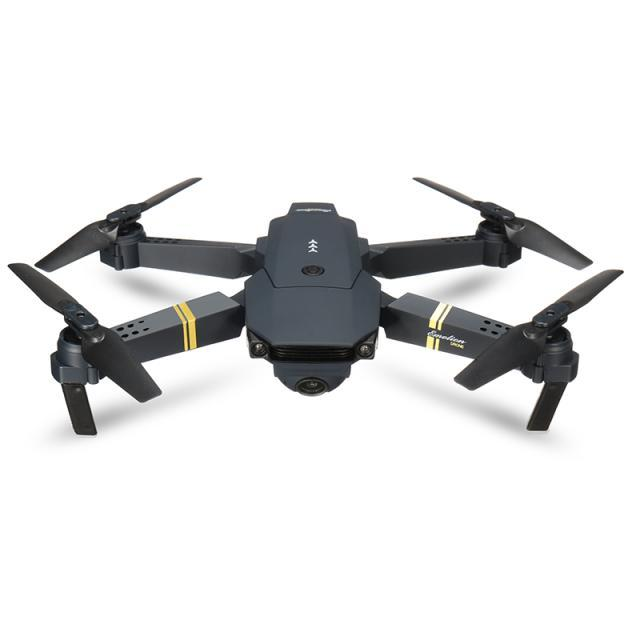drone: (18, 166, 629, 453)
